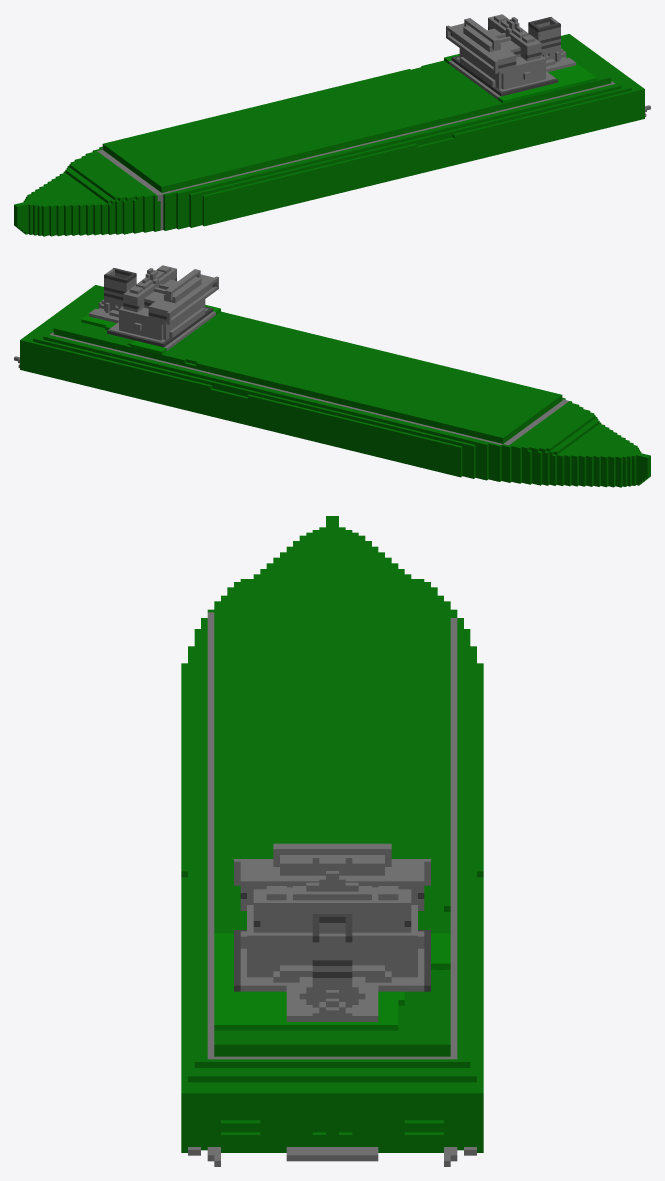
File: Harvester.vox.obj
The picture shows the model from 3 angles, top to bottom: view 1: azimuth 30°, elevation 25°; view 2: azimuth 150°, elevation 25°; view 3: azimuth 270°, elevation 25°; orthographic projection. The views are drawn at different scales.
Bounding box in the file's own units: 21.3 × 3.2 × 4.6.
1 material, 1 textured.
